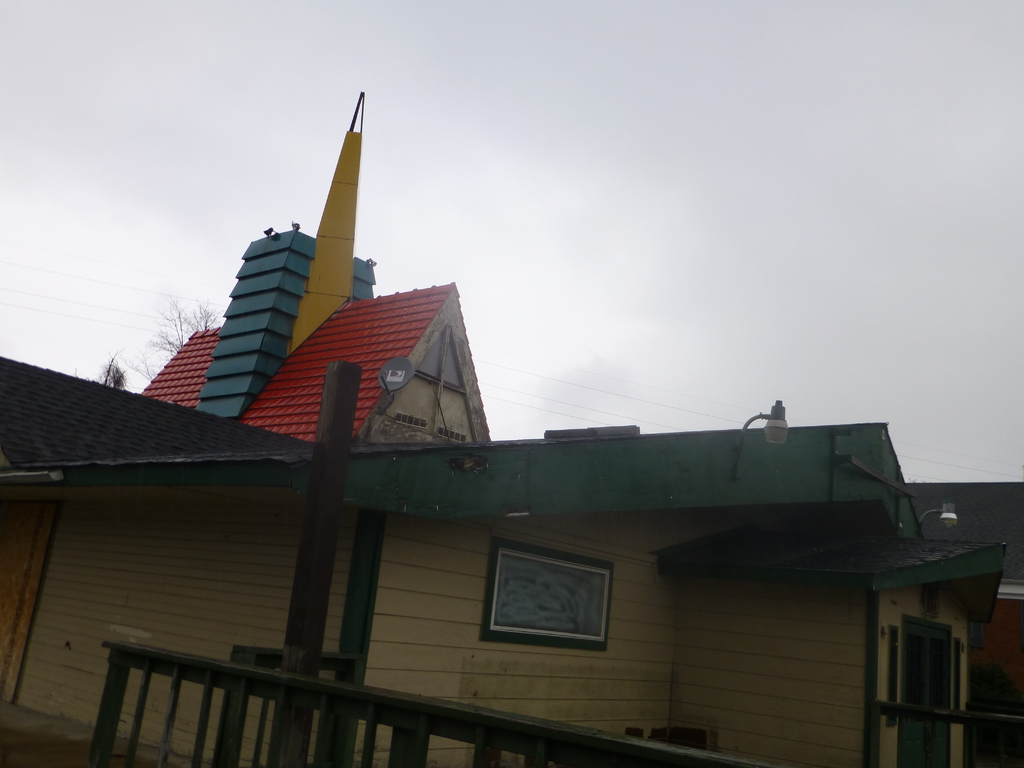door: (903, 623, 957, 768)
